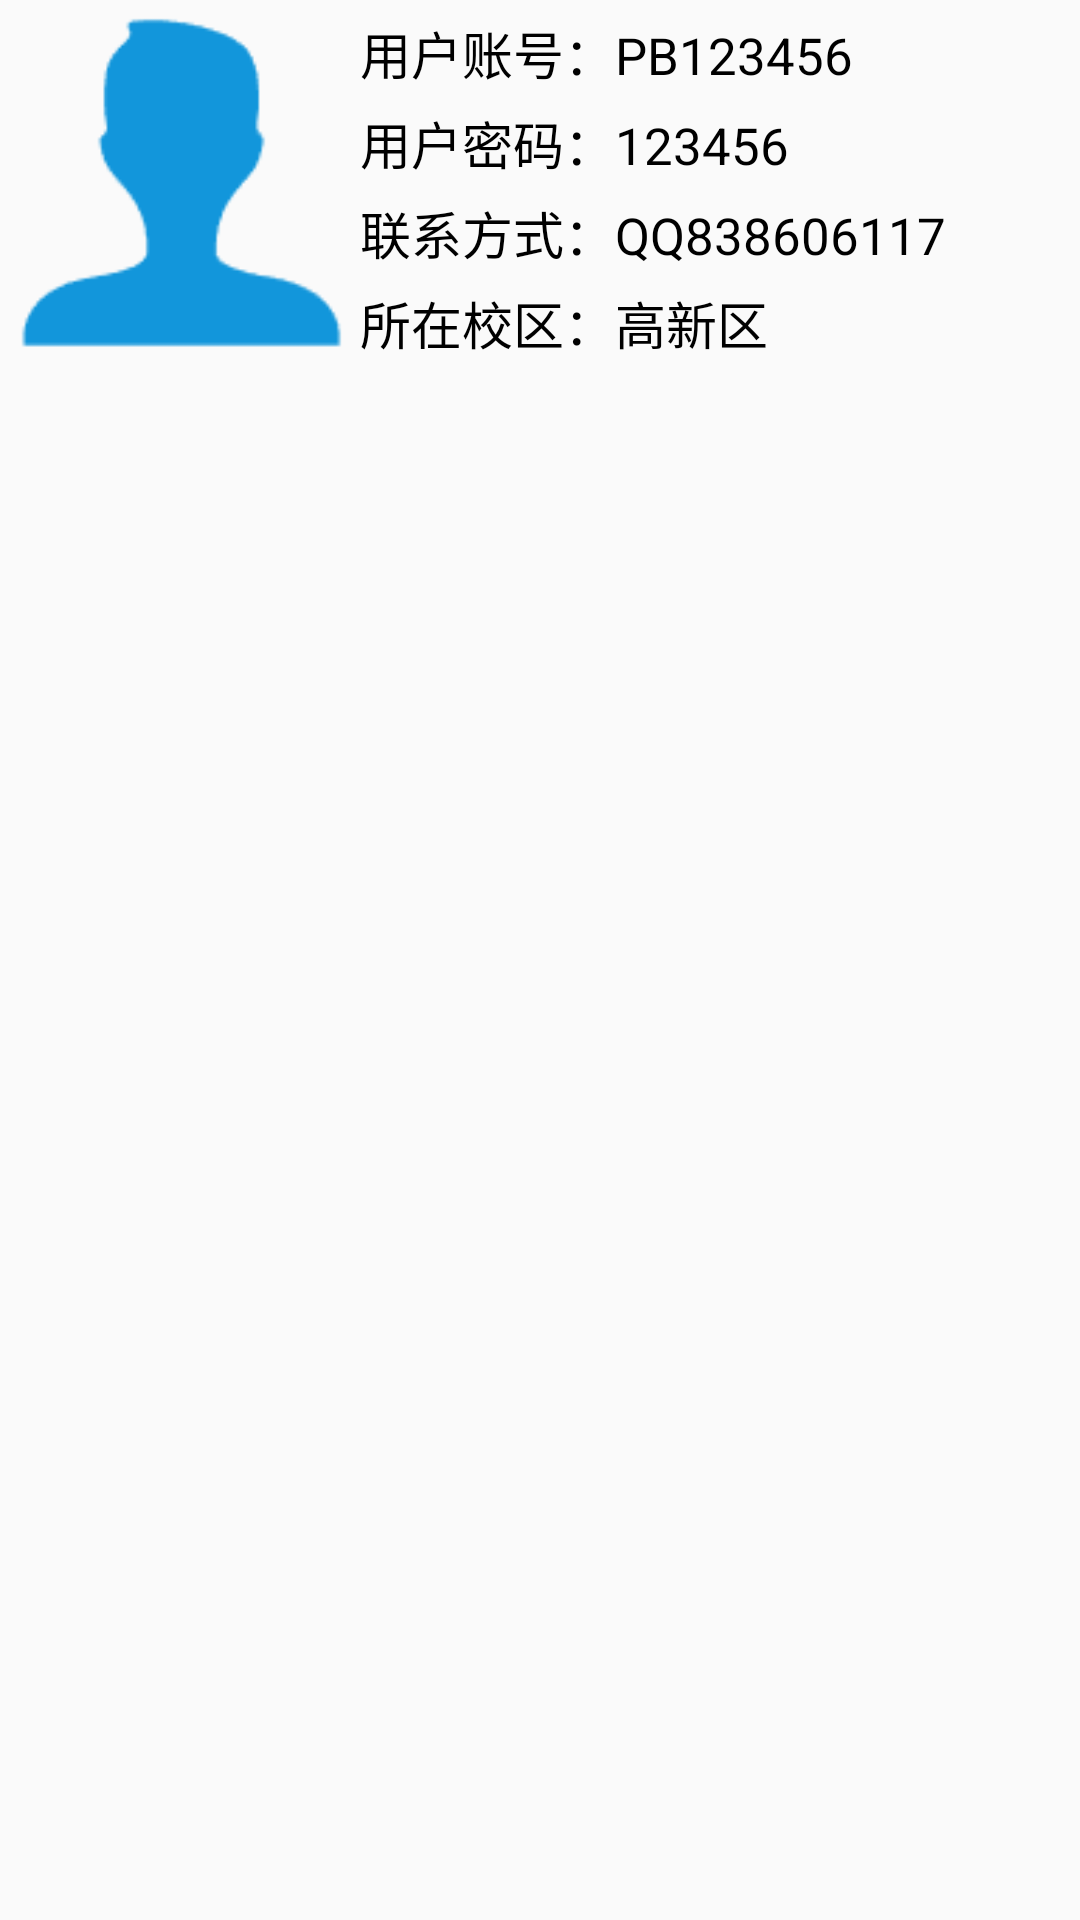

Icon click points for this 1080x1920 phone screenshot, format point (x, y):
user head: point (181, 183)
